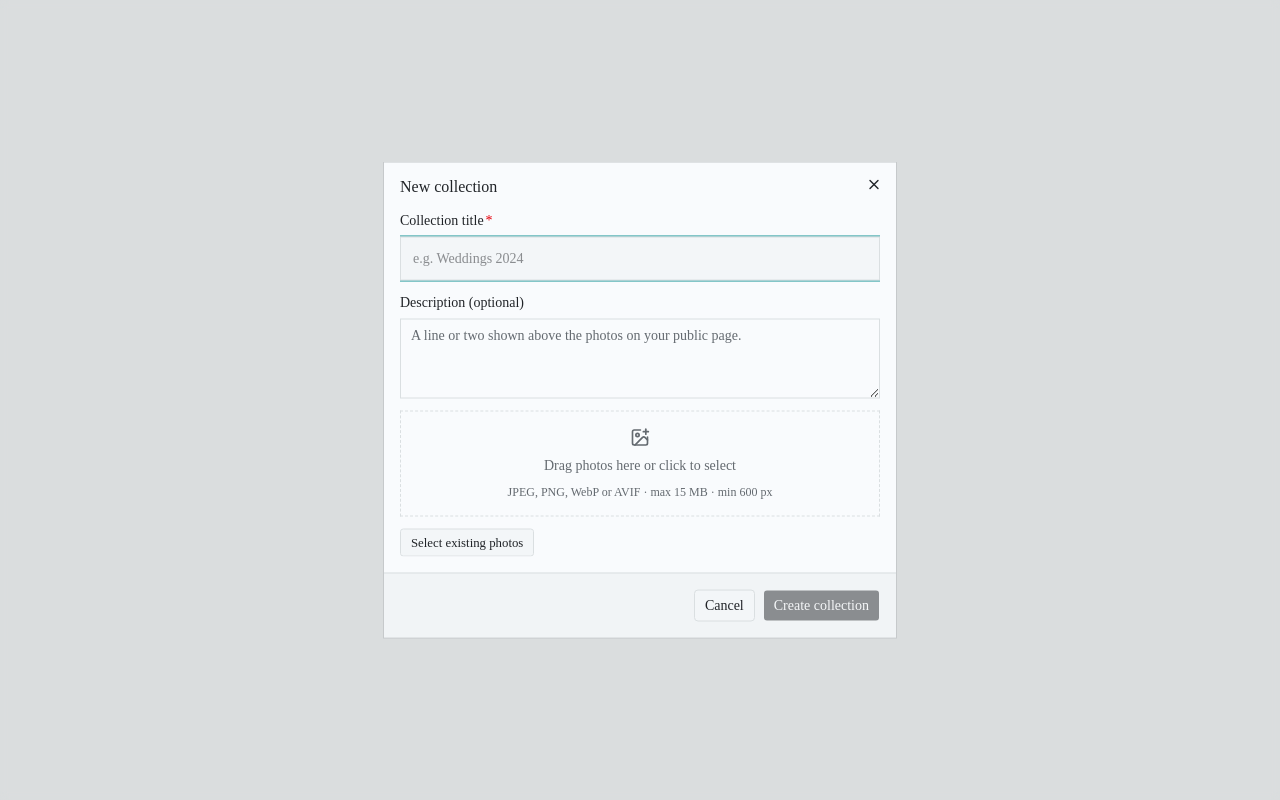
CreateCollectionDialog upload errors › shows the server's specific reason when creating the collection fails validation, instead of the generic errCreate copy
In the field labelled "Collection title*": x=640, y=258 [400,236,880,280], type "My collection"
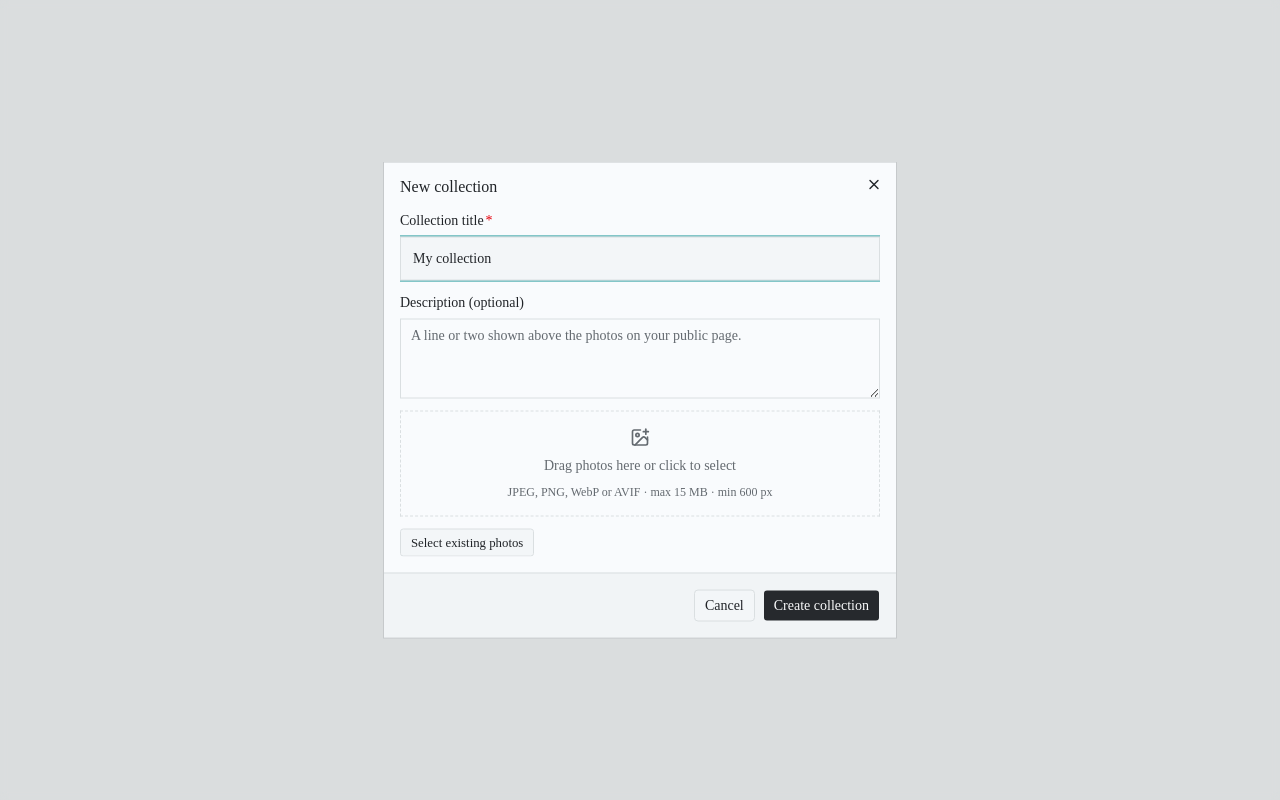
Click the button "Create collection": x=821, y=606 [763,590,880,622]
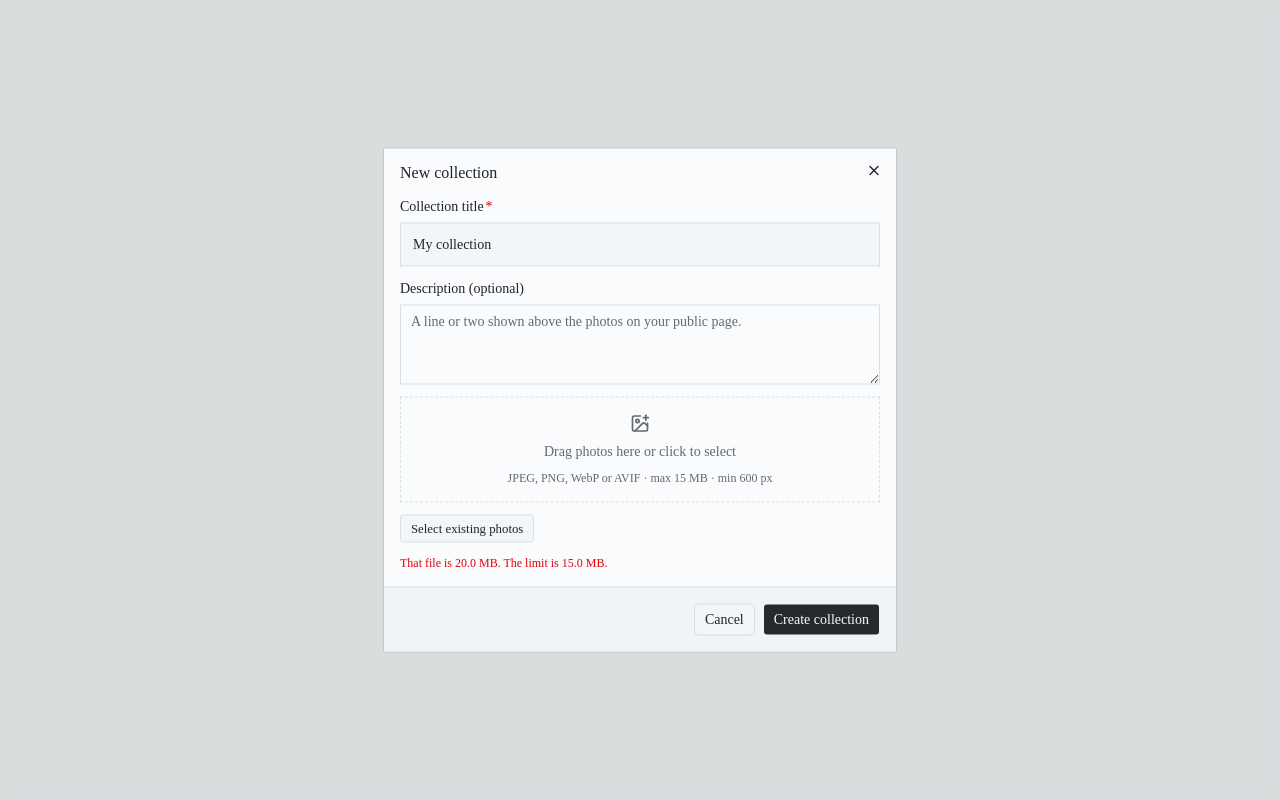
expect the message shows "20.0 MB": met, box [400,556,608,570]
